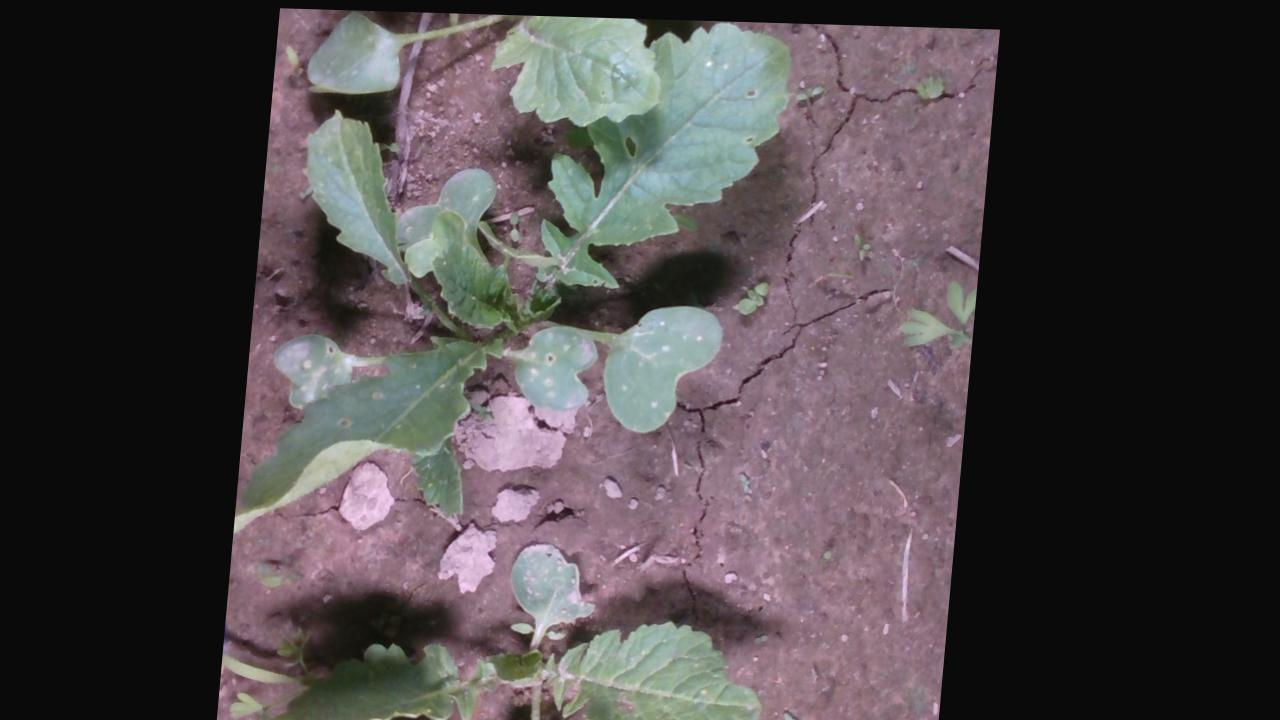weed: (794, 80, 825, 97)
